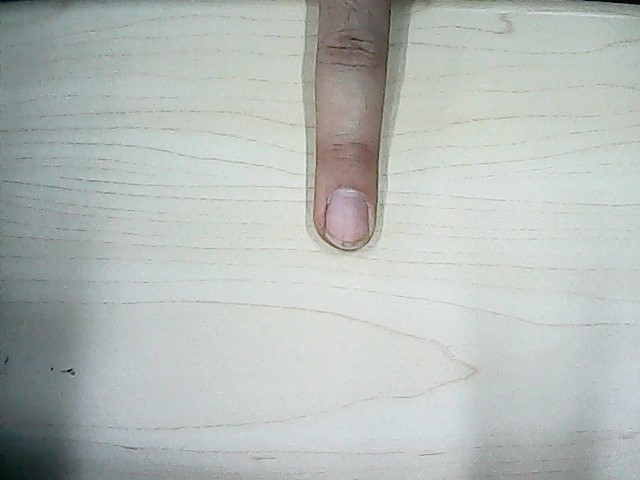nail: (322, 185, 371, 252)
